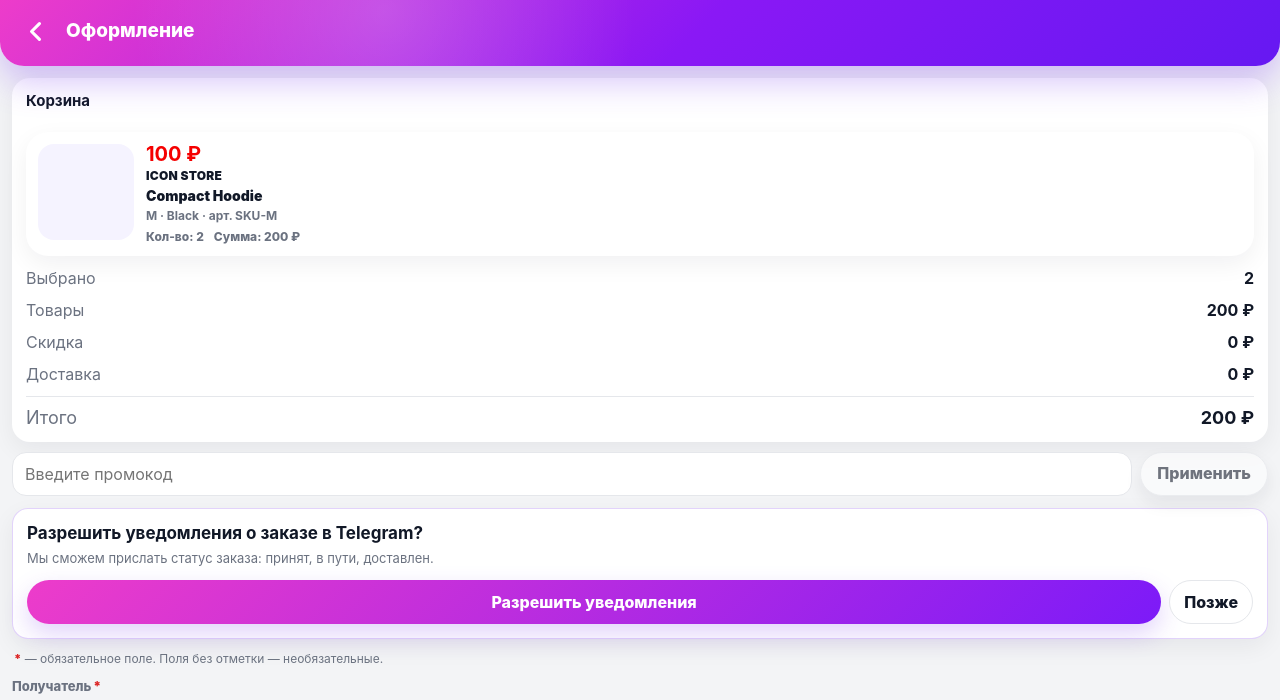
Test case: CheckoutPage notification write access › requests Telegram write access only after user click and persists granted result
What coordinates should you click on to do the following:
click the button "Разрешить уведомления"
I would click on:
 (594, 602)
Its box is [27,580,1161,624].
(page scrolled)
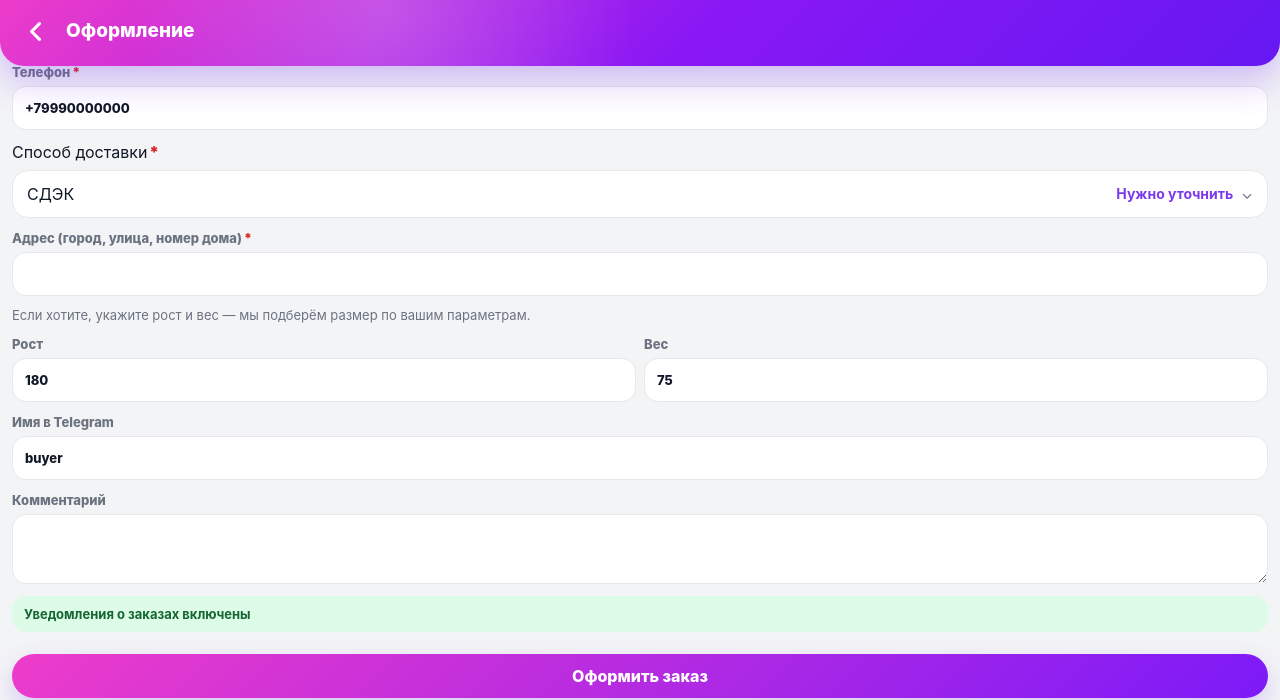
Expected: the text "Уведомления о заказах включены" is shown, [24,606,250,622]
